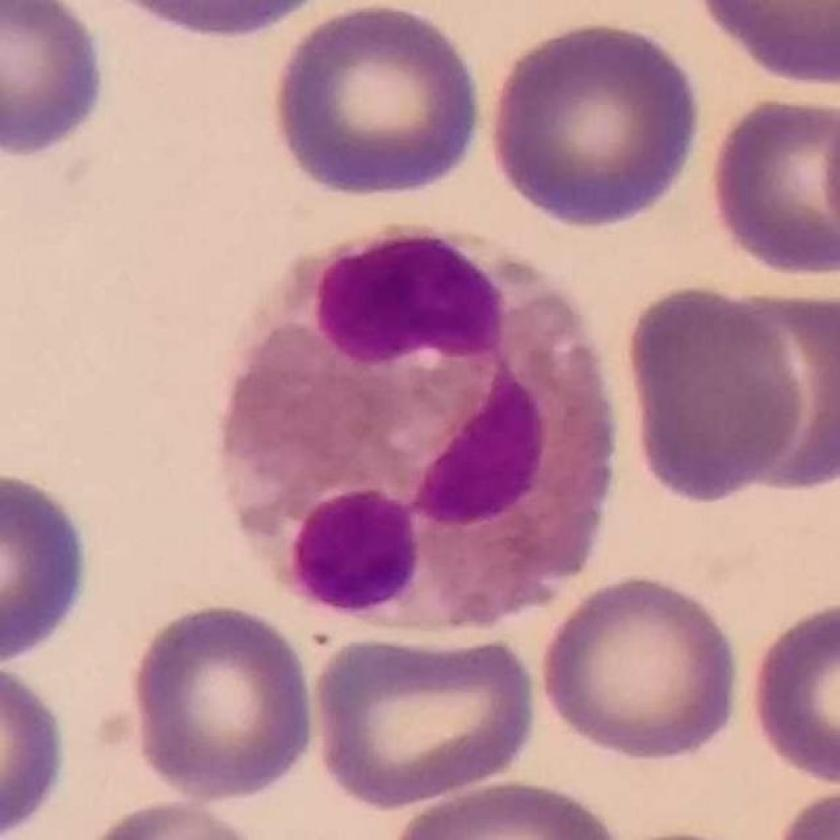eosinophil: (224, 227, 621, 640)
